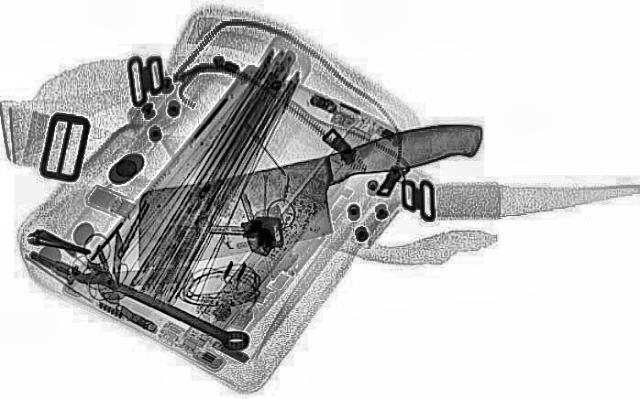Knife: (105, 114, 522, 270)
Wrench: (61, 258, 259, 354)
